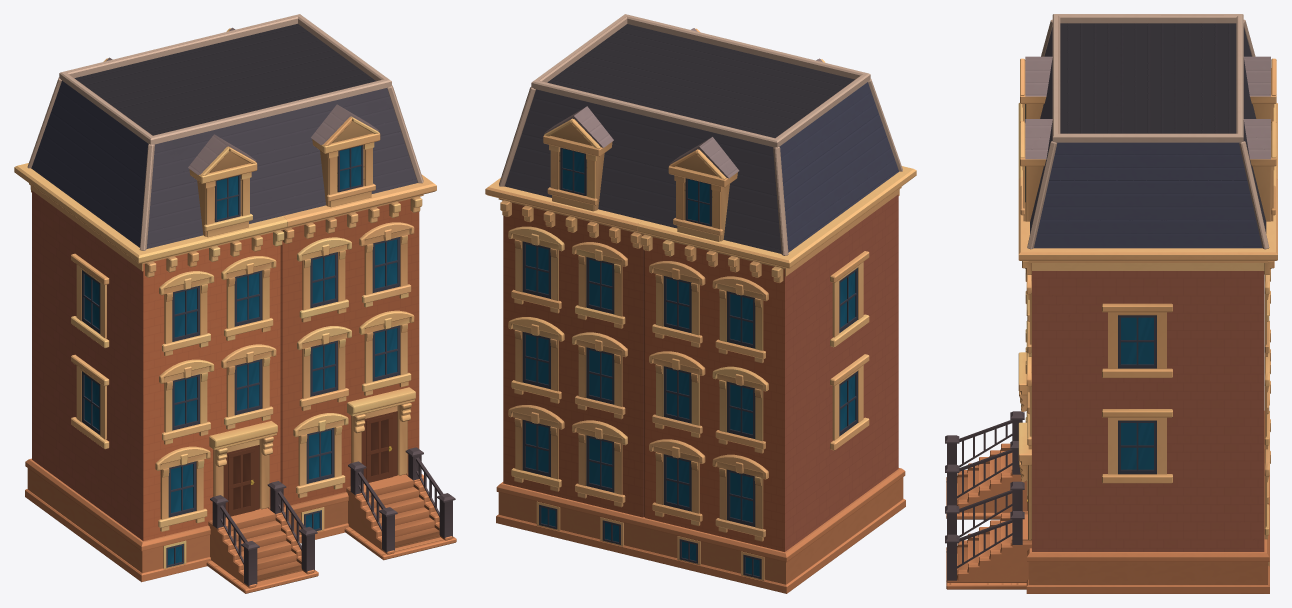
The model's file is houdini_mansard_pair.glb.
3 renders of one model, left to right at view 1: azimuth 30°, elevation 25°; view 2: azimuth 150°, elevation 25°; view 3: azimuth 270°, elevation 25°, orthographic. The views are drawn at different scales.
Parts seen in each view (by area): view 1: LOD0; view 2: LOD0; view 3: LOD0.
Part boxes in pixels (box(x1,y1,x2,y2)): LOD0: box(14, 14, 456, 593); LOD0: box(485, 14, 916, 593); LOD0: box(945, 14, 1277, 593).
Size of what is drawn, in the model's own units: 10.68 by 14.67 by 9.91.
Materials: 5 (5 with a texture image).
